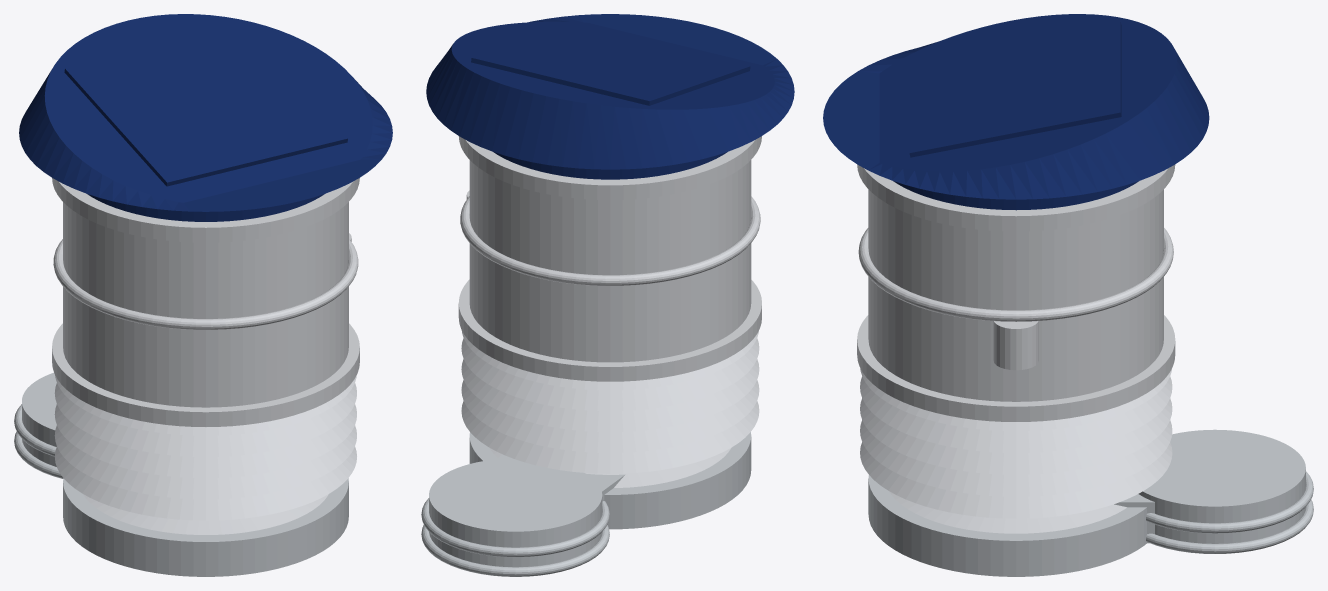
Rendered from OTech_AirNet_Exterior_Completo.obj.
3 views of the same model, side by side, from view 1: azimuth 30°, elevation 25°; view 2: azimuth 150°, elevation 25°; view 3: azimuth 270°, elevation 25° (orthographic). The views are drawn at different scales.
Parts seen in each view (by area): view 1: Gabinete_Principal_IP65, Cupula_Solar_Superior, Camara_Muestreo_Stevenson, Soporte_Mastil_Pared; view 2: Gabinete_Principal_IP65, Cupula_Solar_Superior, Camara_Muestreo_Stevenson, Soporte_Mastil_Pared; view 3: Gabinete_Principal_IP65, Cupula_Solar_Superior, Camara_Muestreo_Stevenson, Soporte_Mastil_Pared.
Part boxes in pixels (left/top/right/bottom): Gabinete_Principal_IP65: left=52, top=178, right=359, bottom=426; Cupula_Solar_Superior: left=19, top=14, right=392, bottom=221; Camara_Muestreo_Stevenson: left=54, top=375, right=356, bottom=534; Soporte_Mastil_Pared: left=14, top=372, right=348, bottom=576; Gabinete_Principal_IP65: left=458, top=136, right=761, bottom=381; Cupula_Solar_Superior: left=426, top=14, right=794, bottom=179; Camara_Muestreo_Stevenson: left=461, top=330, right=759, bottom=487; Soporte_Mastil_Pared: left=421, top=432, right=751, bottom=576; Gabinete_Principal_IP65: left=857, top=164, right=1175, bottom=421; Cupula_Solar_Superior: left=823, top=14, right=1209, bottom=210; Camara_Muestreo_Stevenson: left=860, top=368, right=1172, bottom=533; Soporte_Mastil_Pared: left=868, top=429, right=1313, bottom=576.
Bounding box in the file's own units: 136 × 176 × 173.
